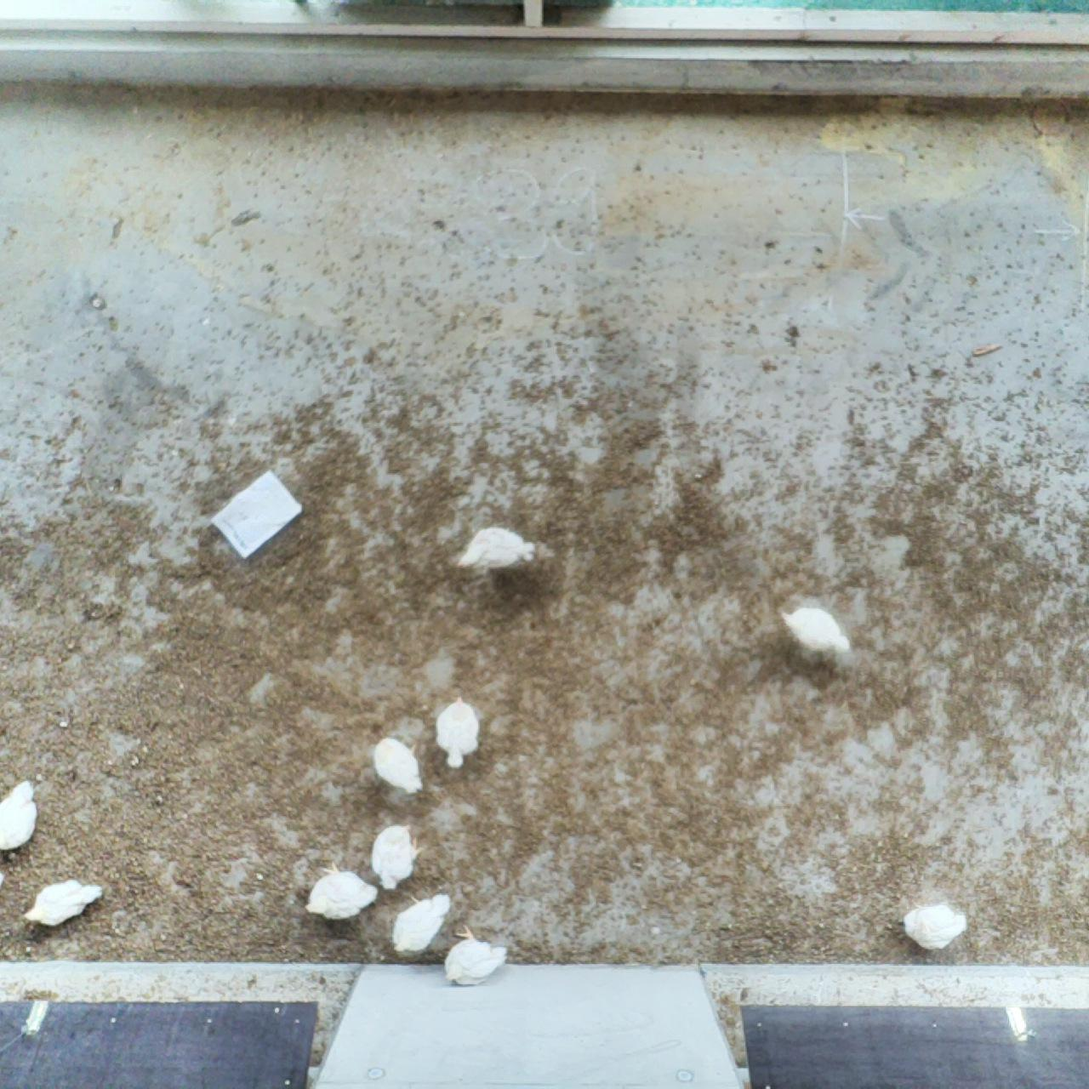chicken: (303, 858, 382, 927), (20, 875, 108, 932), (440, 922, 511, 990), (776, 600, 855, 656), (455, 525, 540, 576), (389, 891, 455, 956), (368, 820, 426, 893), (431, 693, 484, 770), (902, 901, 971, 953), (372, 733, 426, 796), (0, 776, 41, 856)
